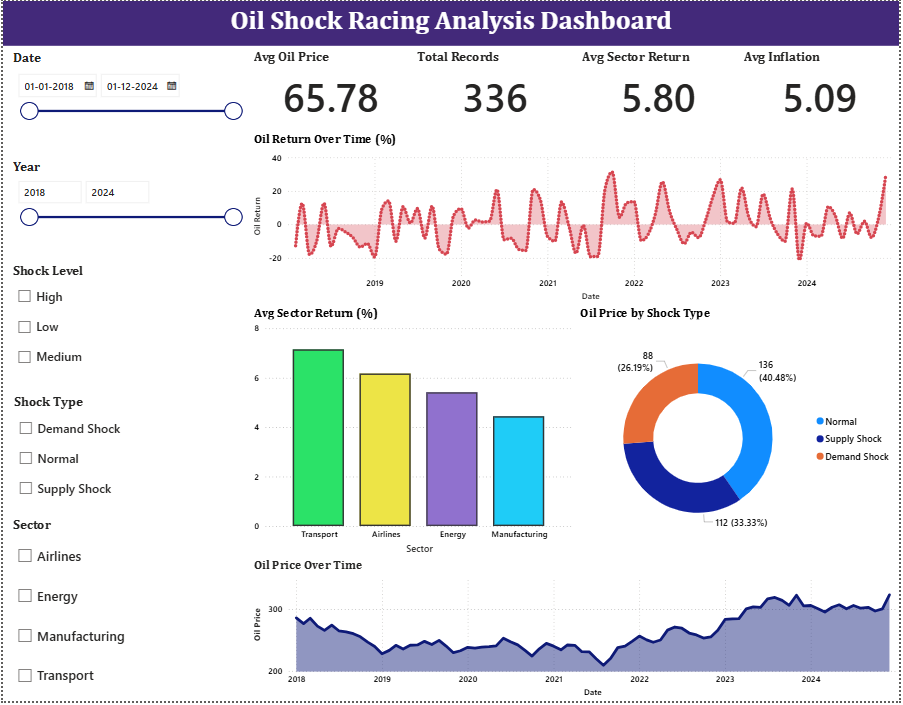

Layout of this report page (visuals, bound fields, positions):
{"tool":"powerbi","page":{"name":"Page 1","canvas":[1280,1000],"ordinal":0},"visuals":[{"type":"textbox","box":[0,0,1280.6,63.9],"z":0},{"type":"card","title":"Avg Oil Price","fields":{"Values":["Avg(final_dashboard_data.Oil_Price)"]},"box":[350,64.3,233.9,121.4],"z":1000},{"type":"card","title":"Total Records","fields":{"Values":["CountNonNull(final_dashboard_data.Date)"]},"box":[583.9,64.3,235.7,121.4],"z":2000},{"type":"card","title":"Avg Sector Return","fields":{"Values":["Avg(final_dashboard_data.Return)"]},"box":[819.6,64.3,230.4,121.4],"z":3000},{"type":"card","title":"Avg Inflation","fields":{"Values":["Avg(final_dashboard_data.Inflation)"]},"box":[1050,64.3,230.4,121.4],"z":4000},{"type":"slicer","title":"Year","fields":{"Values":["final_dashboard_data.Year"]},"box":[0,221.4,350,148.2],"z":5000},{"type":"slicer","title":"Shock Type","fields":{"Values":["final_dashboard_data.Shock_Type"]},"box":[1.8,558.9,348.2,173.2],"z":6000},{"type":"slicer","title":"Sector","fields":{"Values":["final_dashboard_data.Sector"]},"box":[0,732.1,350,267.9],"z":7000},{"type":"slicer","title":"Shock Level","fields":{"Values":["final_dashboard_data.Shock_Level"]},"box":[0,369.6,350,189.3],"z":8000},{"type":"slicer","title":"Date","fields":{"Values":["final_dashboard_data.Date"]},"box":[0,64.3,350,157.1],"z":9000},{"type":"areaChart","title":"Oil Price Over Time","fields":{"Category":["final_dashboard_data.Date"],"Y":["Sum(final_dashboard_data.Oil_Price)"]},"box":[350,794.6,930.4,205.4],"z":10000},{"type":"donutChart","title":"Oil Price by Shock Type","fields":{"Category":["final_dashboard_data.Shock_Type"],"Y":["CountNonNull(final_dashboard_data.Date)"]},"box":[819.6,433.9,460.7,360.7],"z":11000},{"type":"clusteredColumnChart","title":" Avg Sector Return (%)","fields":{"Category":["final_dashboard_data.Sector"],"Y":["Avg(final_dashboard_data.Return)"]},"box":[350,433.9,469.6,360.7],"z":12000},{"type":"lineChart","title":" Oil Return Over Time (%)","fields":{"Y":["Sum(final_dashboard_data.Oil_Return)"],"Category":["final_dashboard_data.Date"]},"box":[350,185.7,930.4,248.2],"z":13000}]}

Visuals, with their boxes in screenshot pixels (x1, y1, x2, y2), scaled from the page's 1280x1000 canvas onto the 903x705 screenshot:
textbox: 0, 0, 902, 45
"Avg Oil Price" card: 247, 45, 412, 131
"Total Records" card: 412, 45, 578, 131
"Avg Sector Return" card: 578, 45, 741, 131
"Avg Inflation" card: 741, 45, 902, 131
"Year" slicer: 0, 156, 247, 261
"Shock Type" slicer: 1, 394, 247, 516
"Sector" slicer: 0, 516, 247, 704
"Shock Level" slicer: 0, 261, 247, 394
"Date" slicer: 0, 45, 247, 156
"Oil Price Over Time" areaChart: 247, 560, 902, 704
"Oil Price by Shock Type" donutChart: 578, 306, 902, 560
" Avg Sector Return (%)" clusteredColumnChart: 247, 306, 578, 560
" Oil Return Over Time (%)" lineChart: 247, 131, 902, 306
